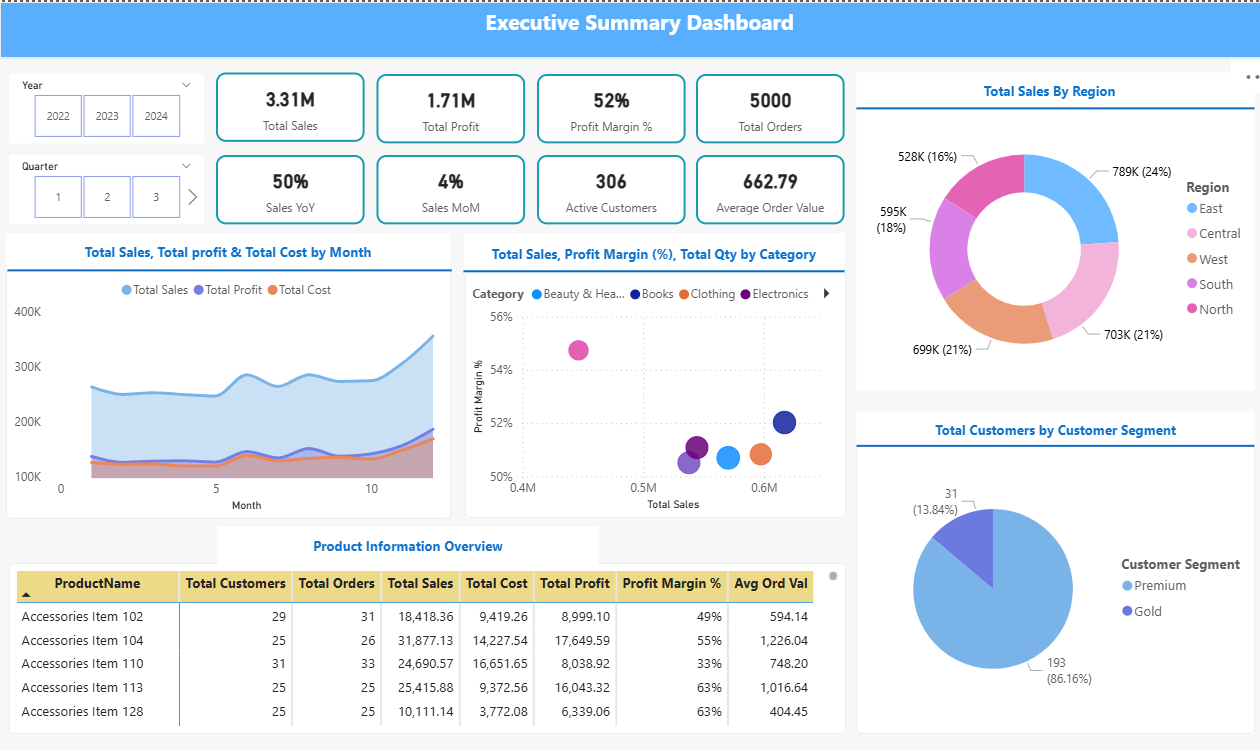

Layout of this report page (visuals, bound fields, positions):
{"tool":"powerbi","page":{"name":"Executive Summary","canvas":[1280,760],"ordinal":0},"visuals":[{"type":"shape","box":[469.4,233.2,383.1,287.7],"z":1000},{"type":"shape","box":[10.6,234.7,443.7,286.2],"z":2000},{"type":"shape","box":[865,413.3,401.7,325],"z":3000},{"type":"shape","box":[865,71.7,401.7,321.7],"z":4000},{"type":"card","fields":{"Values":["Sales.Total Sales"]},"box":[217.7,71.8,150,70],"z":5000},{"type":"card","fields":{"Values":["Sales.Total Profit"]},"box":[379.7,72.1,150,70],"z":6000},{"type":"card","fields":{"Values":["Sales.Profit Margin %"]},"box":[541.5,72.1,150,70],"z":7000},{"type":"card","fields":{"Values":["Sales.Total Orders"]},"box":[703.3,72.1,150,70],"z":8000},{"type":"card","fields":{"Values":["Sales.Sales YoY"]},"box":[217.9,153.9,150,70],"z":9000},{"type":"card","fields":{"Values":["Sales.Sales MoM"]},"box":[379.7,153.9,150,70],"z":10000},{"type":"card","fields":{"Values":["Sales.Active Customers"]},"box":[541.5,153.9,150,70],"z":11000},{"type":"card","fields":{"Values":["Sales.Average Order Value"]},"box":[703.3,153.9,150,70],"z":12000},{"type":"areaChart","fields":{"Category":["Date.Month"],"Y":["Sales.Total Sales","Sales.Total Profit","Sales.Total Cost"]},"box":[6.4,268.2,449.1,253.6],"z":13000},{"type":"donutChart","fields":{"Y":["Sales.Total Sales"],"Category":["Customers.Region"]},"box":[864.6,106,402.8,286.2],"z":14000},{"type":"pieChart","fields":{"Y":["Sales.Total Customers"],"Category":["Customers.Customer Segment"]},"box":[865,446.7,401.7,291.7],"z":15000},{"type":"scatterChart","fields":{"X":["Sales.Total Sales"],"Y":["Sales.Profit Margin %"],"Series":["Products.Category"],"Size":["Sales.Total Quantity"]},"box":[469.4,272.6,384.6,248.3],"z":16000},{"type":"textbox","box":[0,0,1280,56.7],"z":17000},{"type":"slicer","fields":{"Values":["Date.Year"]},"box":[9.8,72.1,196.4,70],"z":18000},{"type":"slicer","fields":{"Values":["Date.Quarter"]},"box":[9.8,153.9,196.4,70],"z":19000},{"type":"pivotTable","fields":{"Rows":["Products.ProductName"],"Values":["Sales.Total Customers","Sales.Total Orders","Sales.Total Sales","Sales.Total Cost","Sales.Total Profit","Sales.Profit Margin %","Sales.Average Order Value"]},"box":[9.1,566.3,844.9,172.6],"z":20000},{"type":"shape","box":[865,71.7,390,35],"z":21000},{"type":"shape","box":[865,91.7,401.7,30],"z":22000},{"type":"shape","box":[870.6,413.9,390,35],"z":23000},{"type":"shape","box":[865,433.3,401.7,30],"z":24000},{"type":"shape","box":[6.7,233.3,448.3,38.3],"z":25000},{"type":"shape","box":[6.9,256.2,448.5,30],"z":26000},{"type":"shape","box":[467.9,234.7,384.6,37.9],"z":27000},{"type":"shape","box":[467.9,255.9,384.6,31.8],"z":28000},{"type":"shape","box":[219.5,529.4,384.6,37.9],"z":29000}]}

Visuals, with their boxes in screenshot pixels (x1, y1, x2, y2), scaled from the page's 1280x760 canvas onto the 1260x750 screenshot:
shape: pyautogui.locateOnScreen(462, 230, 839, 514)
shape: pyautogui.locateOnScreen(10, 232, 447, 514)
shape: pyautogui.locateOnScreen(851, 408, 1247, 729)
shape: pyautogui.locateOnScreen(851, 71, 1247, 388)
card - Sales.Total Sales: pyautogui.locateOnScreen(214, 71, 362, 140)
card - Sales.Total Profit: pyautogui.locateOnScreen(374, 71, 521, 140)
card - Sales.Profit Margin %: pyautogui.locateOnScreen(533, 71, 681, 140)
card - Sales.Total Orders: pyautogui.locateOnScreen(692, 71, 840, 140)
card - Sales.Sales YoY: pyautogui.locateOnScreen(214, 152, 362, 221)
card - Sales.Sales MoM: pyautogui.locateOnScreen(374, 152, 521, 221)
card - Sales.Active Customers: pyautogui.locateOnScreen(533, 152, 681, 221)
card - Sales.Average Order Value: pyautogui.locateOnScreen(692, 152, 840, 221)
areaChart - Date.Month x Sales.Total Sales: pyautogui.locateOnScreen(6, 265, 448, 515)
donutChart - Sales.Total Sales x Customers.Region: pyautogui.locateOnScreen(851, 105, 1248, 387)
pieChart - Sales.Total Customers x Customers.Customer Segment: pyautogui.locateOnScreen(851, 441, 1247, 729)
scatterChart - Sales.Total Sales x Sales.Profit Margin %: pyautogui.locateOnScreen(462, 269, 841, 514)
textbox: pyautogui.locateOnScreen(0, 0, 1259, 56)
slicer - Date.Year: pyautogui.locateOnScreen(10, 71, 203, 140)
slicer - Date.Quarter: pyautogui.locateOnScreen(10, 152, 203, 221)
pivotTable - Products.ProductName x Sales.Total Customers: pyautogui.locateOnScreen(9, 559, 841, 729)
shape: pyautogui.locateOnScreen(851, 71, 1235, 105)
shape: pyautogui.locateOnScreen(851, 90, 1247, 120)
shape: pyautogui.locateOnScreen(857, 408, 1241, 443)
shape: pyautogui.locateOnScreen(851, 428, 1247, 457)
shape: pyautogui.locateOnScreen(7, 230, 448, 268)
shape: pyautogui.locateOnScreen(7, 253, 448, 282)
shape: pyautogui.locateOnScreen(461, 232, 839, 269)
shape: pyautogui.locateOnScreen(461, 253, 839, 284)
shape: pyautogui.locateOnScreen(216, 522, 595, 560)
